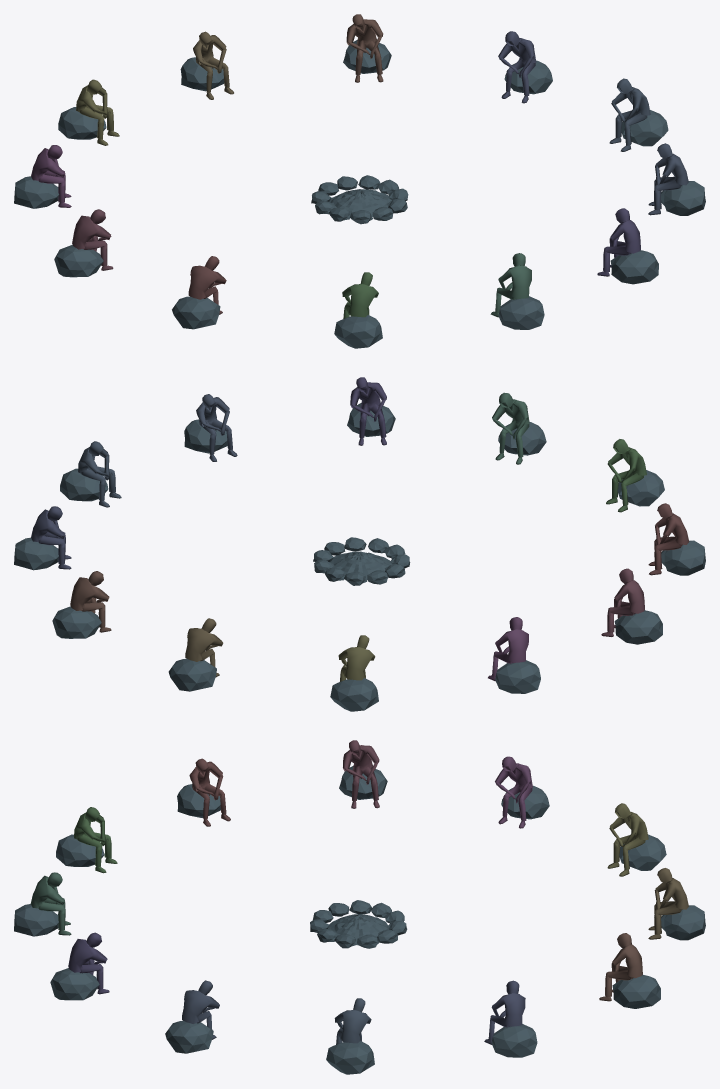
File: lunar_dudes_cyrcle.fbx
3 renders of one model, top to bottom at view 1: azimuth 30°, elevation 25°; view 2: azimuth 150°, elevation 25°; view 3: azimuth 270°, elevation 25°, orthographic.
Visible parts, largest first — view 1: fire, HumanoidBase_NotOverlapping.030, HumanoidBase_NotOverlapping.038, HumanoidBase_NotOverlapping.034, HumanoidBase_NotOverlapping.041, HumanoidBase_NotOverlapping.014, HumanoidBase_NotOverlapping.048, HumanoidBase_NotOverlapping.022, HumanoidBase_NotOverlapping.046, HumanoidBase_NotOverlapping.026, HumanoidBase_NotOverlapping.008, HumanoidBase_NotOverlapping.004 (+13 smaller); view 2: fire, HumanoidBase_NotOverlapping.046, HumanoidBase_NotOverlapping.006, HumanoidBase_NotOverlapping.002, HumanoidBase_NotOverlapping.010, HumanoidBase_NotOverlapping.016, HumanoidBase_NotOverlapping.030, HumanoidBase_NotOverlapping.038, HumanoidBase_NotOverlapping.014, HumanoidBase_NotOverlapping.041, HumanoidBase_NotOverlapping.024, HumanoidBase_NotOverlapping.020 (+13 smaller); view 3: fire, HumanoidBase_NotOverlapping.014, HumanoidBase_NotOverlapping.022, HumanoidBase_NotOverlapping.018, HumanoidBase_NotOverlapping.026, HumanoidBase_NotOverlapping.046, HumanoidBase_NotOverlapping.032, HumanoidBase_NotOverlapping.030, HumanoidBase_NotOverlapping.006, HumanoidBase_NotOverlapping.010, HumanoidBase_NotOverlapping.040, HumanoidBase_NotOverlapping.036 (+13 smaller).
Part boxes in pixels (x1,y1,x2,y2): fire: [311, 175, 408, 224]; HumanoidBase_NotOverlapping.030: [346, 14, 383, 82]; HumanoidBase_NotOverlapping.038: [609, 78, 650, 151]; HumanoidBase_NotOverlapping.034: [498, 31, 536, 103]; HumanoidBase_NotOverlapping.041: [648, 143, 688, 215]; HumanoidBase_NotOverlapping.014: [72, 209, 113, 270]; HumanoidBase_NotOverlapping.048: [610, 250, 658, 284]; HumanoidBase_NotOverlapping.022: [76, 79, 119, 145]; HumanoidBase_NotOverlapping.046: [597, 208, 640, 276]; HumanoidBase_NotOverlapping.026: [193, 31, 233, 99]; HumanoidBase_NotOverlapping.008: [334, 315, 382, 348]; HumanoidBase_NotOverlapping.004: [498, 296, 544, 329]; fire: [313, 537, 410, 585]; HumanoidBase_NotOverlapping.046: [350, 377, 386, 445]; HumanoidBase_NotOverlapping.006: [606, 439, 646, 512]; HumanoidBase_NotOverlapping.002: [492, 392, 529, 464]; HumanoidBase_NotOverlapping.010: [648, 503, 689, 575]; HumanoidBase_NotOverlapping.016: [614, 610, 662, 644]; HumanoidBase_NotOverlapping.030: [70, 571, 111, 632]; HumanoidBase_NotOverlapping.038: [78, 441, 121, 507]; HumanoidBase_NotOverlapping.014: [601, 568, 644, 636]; HumanoidBase_NotOverlapping.041: [196, 394, 237, 461]; HumanoidBase_NotOverlapping.024: [330, 678, 378, 711]; HumanoidBase_NotOverlapping.020: [495, 660, 540, 693]; fire: [310, 900, 407, 948]; HumanoidBase_NotOverlapping.014: [343, 740, 379, 808]; HumanoidBase_NotOverlapping.022: [607, 803, 648, 876]; HumanoidBase_NotOverlapping.018: [495, 756, 532, 828]; HumanoidBase_NotOverlapping.026: [648, 868, 688, 939]; HumanoidBase_NotOverlapping.046: [68, 932, 109, 994]; HumanoidBase_NotOverlapping.032: [612, 975, 660, 1008]; HumanoidBase_NotOverlapping.030: [599, 933, 642, 1001]; HumanoidBase_NotOverlapping.006: [74, 807, 117, 873]; HumanoidBase_NotOverlapping.010: [189, 758, 230, 826]; HumanoidBase_NotOverlapping.040: [326, 1041, 374, 1074]; HumanoidBase_NotOverlapping.036: [491, 1024, 537, 1057].
Bounding box in the file's own units: 1296 × 133 × 1295.
